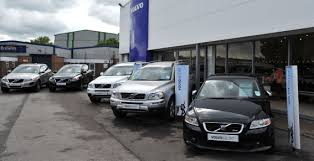car: (183, 74, 274, 154), (110, 61, 176, 117), (86, 62, 134, 103), (1, 63, 49, 91), (49, 63, 94, 90)
